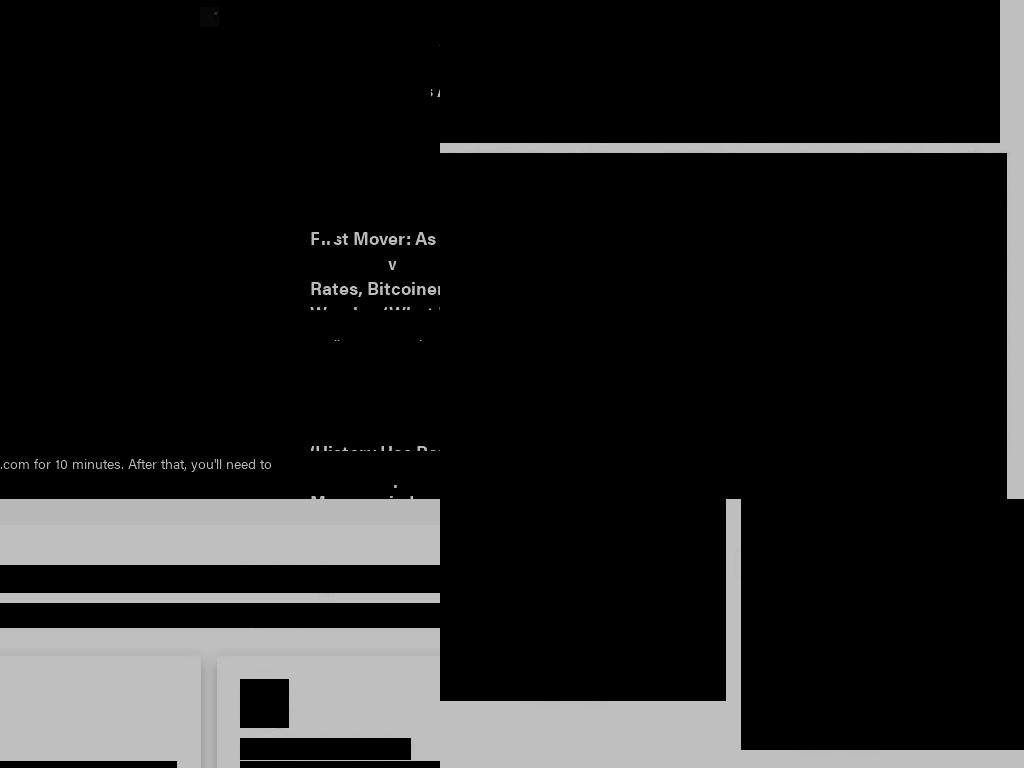button: (741, 499, 1024, 750), (440, 499, 726, 701), (219, 0, 431, 146), (0, 0, 200, 146), (310, 310, 440, 334), (310, 112, 409, 136)
heading: (440, 387, 972, 488), (741, 578, 1024, 663), (440, 578, 716, 635), (310, 341, 440, 441), (0, 565, 440, 593), (310, 143, 440, 218), (310, 0, 440, 45), (240, 738, 411, 760), (319, 223, 337, 241)
iframe: (440, 0, 1000, 143)
image: (440, 153, 1007, 499), (0, 27, 290, 458), (0, 27, 290, 458), (240, 679, 289, 728)
link: (310, 55, 404, 73), (310, 451, 392, 469), (310, 253, 388, 271), (400, 451, 440, 469)
text: (741, 665, 1024, 750), (440, 637, 716, 701), (0, 603, 440, 628), (310, 451, 440, 485), (119, 29, 270, 52), (318, 315, 440, 329), (318, 117, 401, 131), (396, 253, 440, 271), (412, 55, 440, 73)
